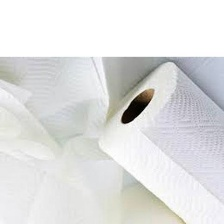tissue: (91, 58, 224, 224), (0, 57, 130, 224)
